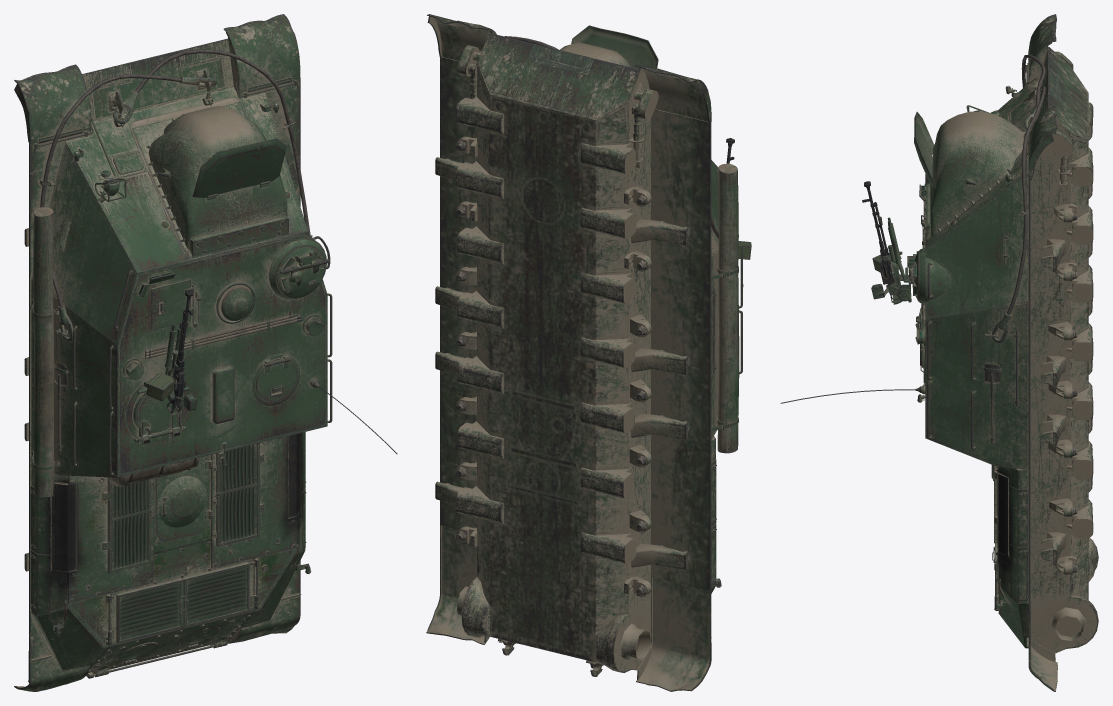
The model's file is Hull.glb.
3 renders of one model, left to right at view 1: azimuth 30°, elevation 25°; view 2: azimuth 150°, elevation 25°; view 3: azimuth 270°, elevation 25°, orthographic. The views are drawn at different scales.
Visible parts, largest first — view 1: set_0_group_0, set_0_group_1, set_0_group_2; view 2: set_0_group_0, set_0_group_1, set_0_group_2; view 3: set_0_group_0, set_0_group_1, set_0_group_2.
Part boxes in pixels (box(x1,y1,x2,y2)): set_0_group_0: box(14, 14, 397, 691); set_0_group_1: box(33, 49, 312, 496); set_0_group_2: box(192, 138, 286, 197); set_0_group_0: box(426, 14, 743, 691); set_0_group_1: box(504, 36, 751, 453); set_0_group_2: box(571, 25, 658, 69); set_0_group_0: box(780, 14, 1098, 691); set_0_group_1: box(862, 54, 1045, 444); set_0_group_2: box(914, 112, 936, 187).
Size of the model in its own units: 3.57 by 7.48 by 3.85.
3 materials, 3 textured.
